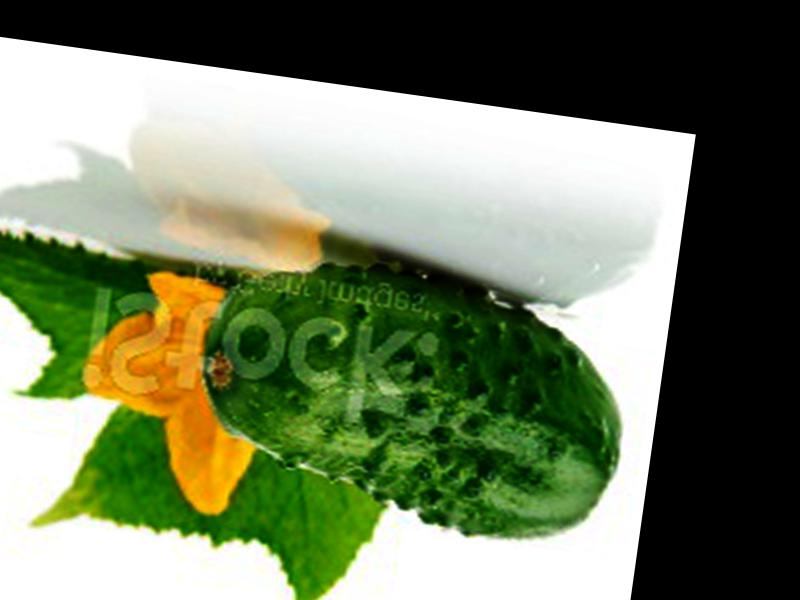Cucumber: (190, 246, 640, 553)
